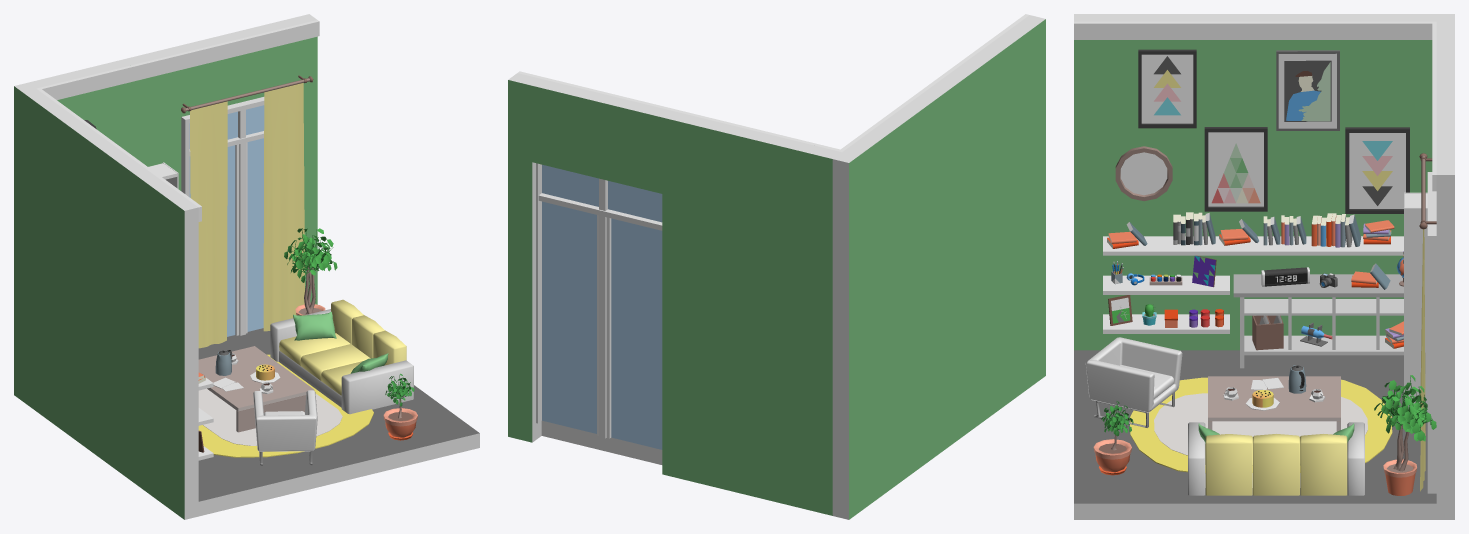
File: room_12.glb
The picture shows the model from 3 angles, left to right: view 1: azimuth 30°, elevation 25°; view 2: azimuth 150°, elevation 25°; view 3: azimuth 270°, elevation 25°; orthographic projection. The views are drawn at different scales.
Parts seen in each view (by area): view 1: Walls_080.007, Walls_046.001, sofa_030.001, window_009.002, Curtains_027.001, Walls_080.008, Curtains_027.002, Walls_080.009, Walls_003.031, carpet_006.001, coffee_table_011.001, Walls_080.006 (+5 smaller); view 2: Walls_080.007, Walls_080.008, window_009.002, Walls_080.009, Walls_080.006, Walls_046.001, Walls_003.031, Walls_003.032; view 3: Walls_080.007, Walls_046.001, sofa_030.001, shelf_046.001, carpet_006.001, Walls_003.032, Walls_080.006, armchair_003.001, picture_050.003, picture_051.001, picture_045.001, coffee_table_011.001 (+28 smaller).
Part boxes in pixels (<box>): Walls_080.007: <box>14,82,198,519</box>; Walls_046.001: <box>198,328,479,516</box>; sofa_030.001: <box>270,299,413,414</box>; window_009.002: <box>181,97,264,336</box>; Curtains_027.001: <box>263,83,304,331</box>; Walls_080.008: <box>28,46,183,190</box>; Curtains_027.002: <box>190,101,227,348</box>; Walls_080.009: <box>176,19,296,116</box>; Walls_003.031: <box>36,20,319,99</box>; carpet_006.001: <box>198,354,373,457</box>; coffee_table_011.001: <box>198,346,314,432</box>; Walls_080.006: <box>288,14,317,304</box>; Walls_080.007: <box>832,15,1045,519</box>; Walls_080.008: <box>662,110,841,515</box>; window_009.002: <box>536,163,662,449</box>; Walls_080.009: <box>532,79,670,193</box>; Walls_080.006: <box>508,73,541,442</box>; Walls_046.001: <box>541,420,662,464</box>; Walls_003.031: <box>518,71,843,151</box>; Walls_003.032: <box>841,14,1028,150</box>; Walls_080.007: <box>1074,14,1454,350</box>; Walls_046.001: <box>1074,350,1436,519</box>; sofa_030.001: <box>1188,422,1364,495</box>; shelf_046.001: <box>1233,274,1403,368</box>; carpet_006.001: <box>1129,377,1392,472</box>; Walls_003.032: <box>1074,21,1432,39</box>; Walls_080.006: <box>1436,163,1454,519</box>; armchair_003.001: <box>1085,337,1182,427</box>; picture_050.003: <box>1345,127,1409,213</box>; picture_051.001: <box>1204,127,1267,211</box>; picture_045.001: <box>1276,50,1339,130</box>; coffee_table_011.001: <box>1208,376,1340,431</box>.
Bounding box in the file's own units: 4.2 × 4.2 × 4.2.
Materials: 1 (1 with a texture image).
